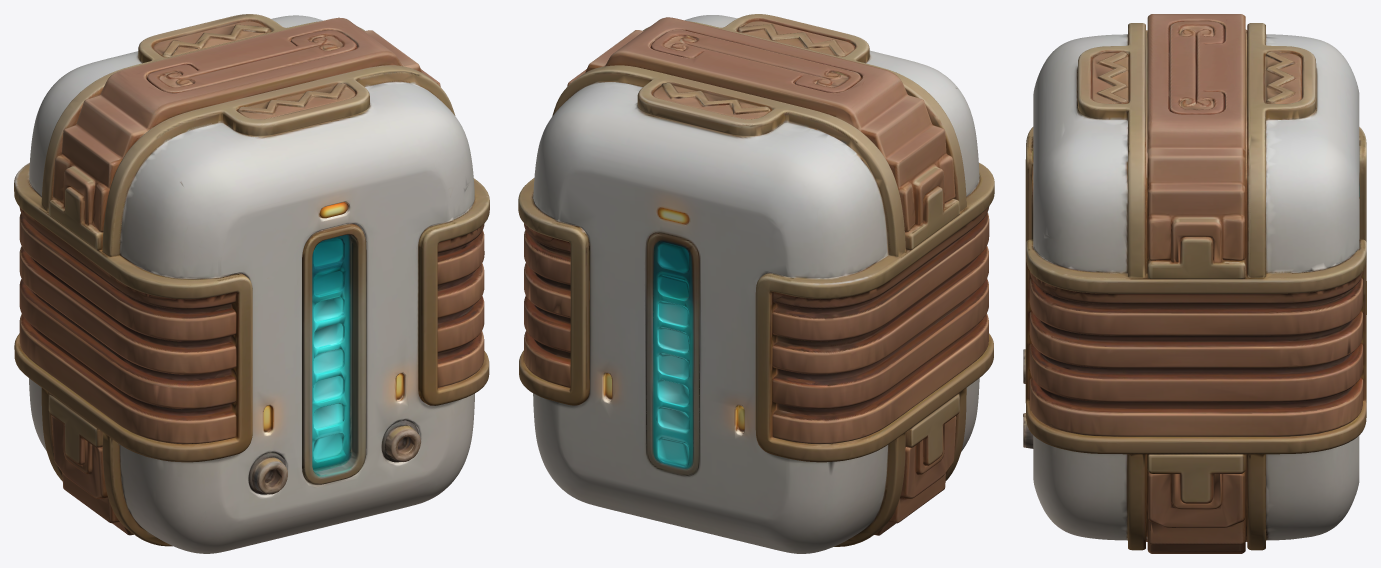
File: battery.glb
3 views of the same model, side by side, from view 1: azimuth 30°, elevation 25°; view 2: azimuth 150°, elevation 25°; view 3: azimuth 270°, elevation 25° (orthographic).
Parts seen in each view (by area): view 1: node_0; view 2: node_0; view 3: node_0.
Boxes of the visible parts, x1,y1,x2,y2 form: node_0: (14,14,489,553); node_0: (518,14,994,553); node_0: (1023,14,1366,553).
Bounding box in the file's own units: 0.857 × 0.9961 × 0.7223.
Materials: 1 (1 with a texture image).
